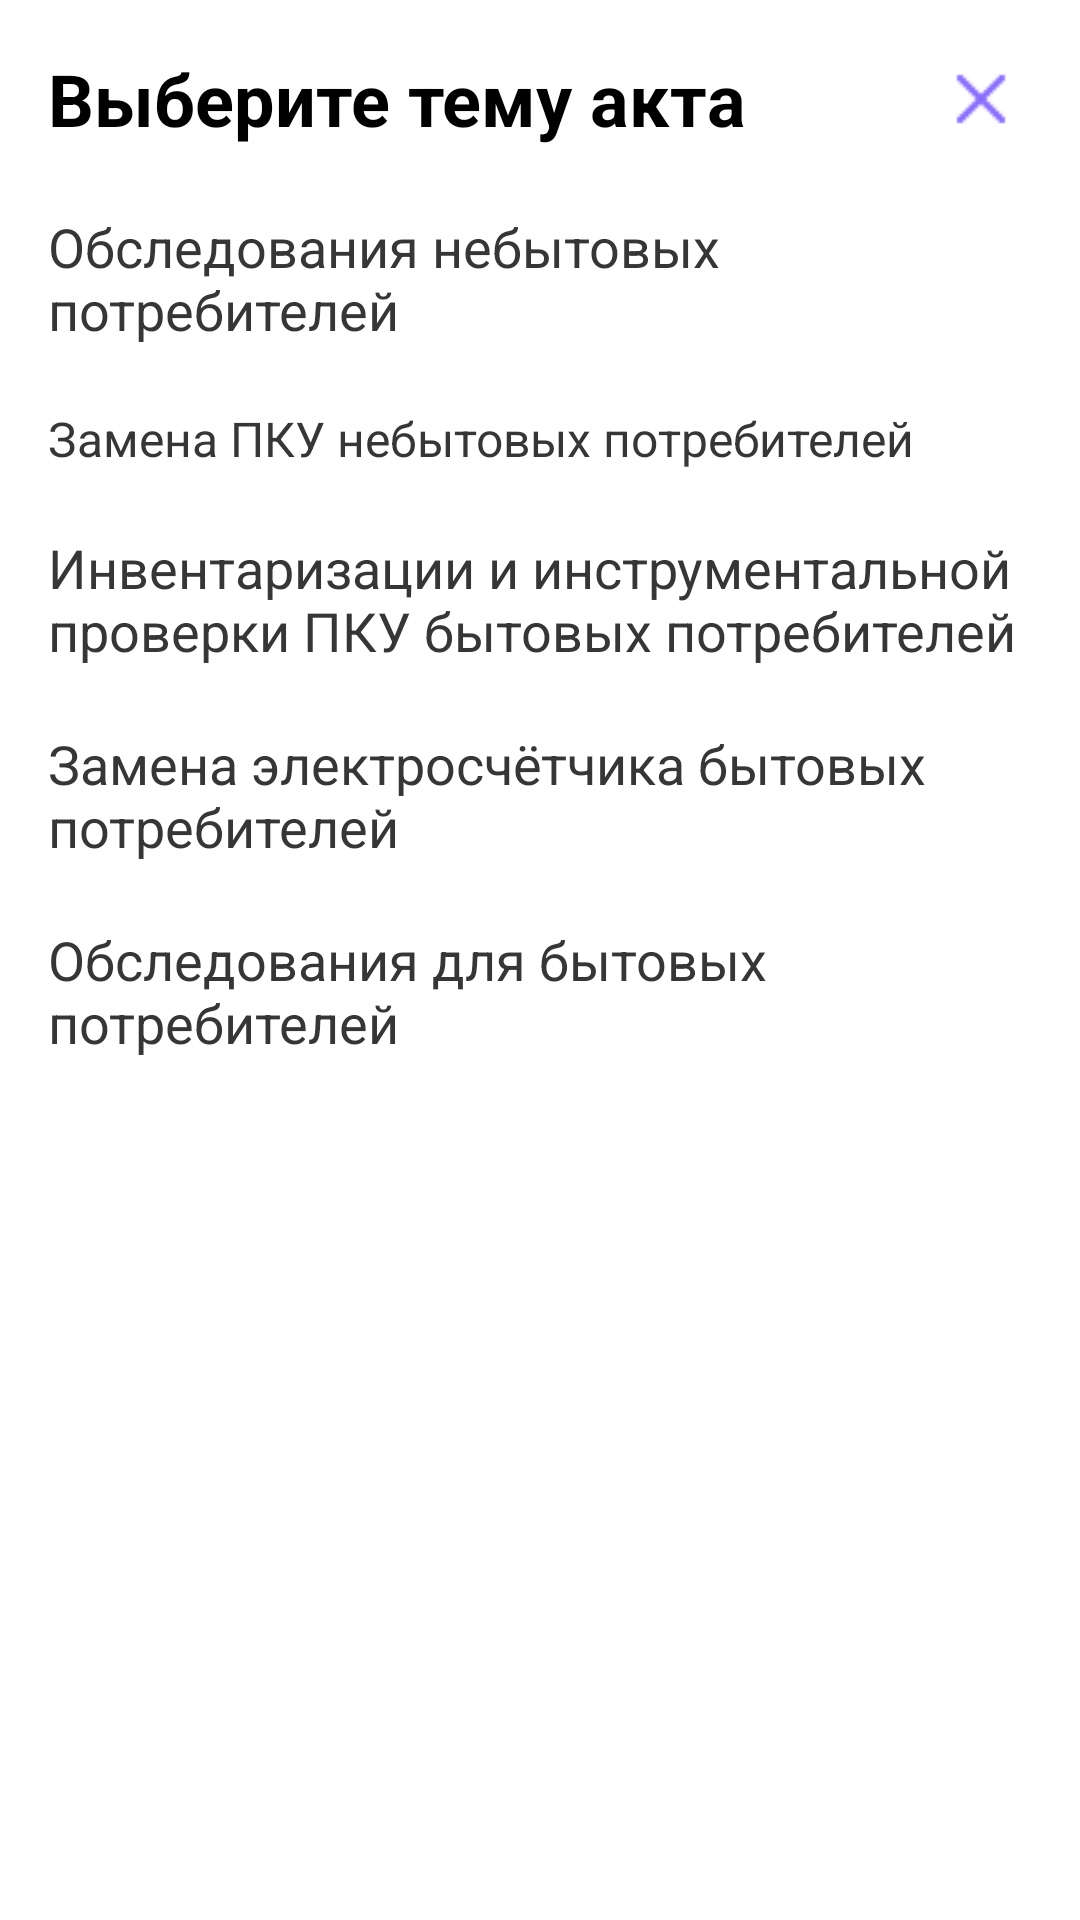

Where icons sit on this 1080×1920 app screen, as (x1, y1, x2, y2):
Закрыть: (956, 74, 1006, 124)
